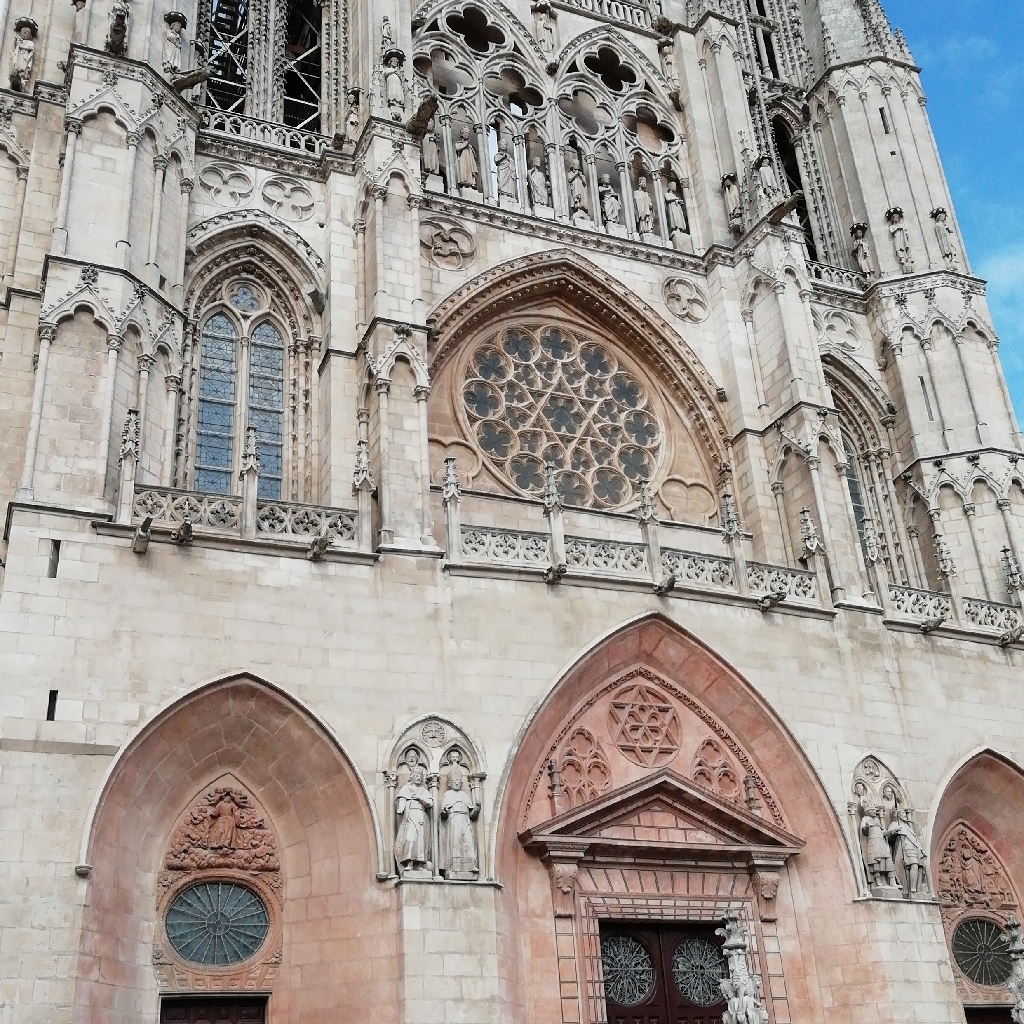arco-apuntado: (491, 611, 835, 792), (79, 667, 382, 859), (427, 266, 691, 386), (923, 742, 1024, 895), (412, 1, 554, 108), (182, 236, 320, 346), (554, 29, 677, 122)
fronton: (516, 762, 808, 862)
